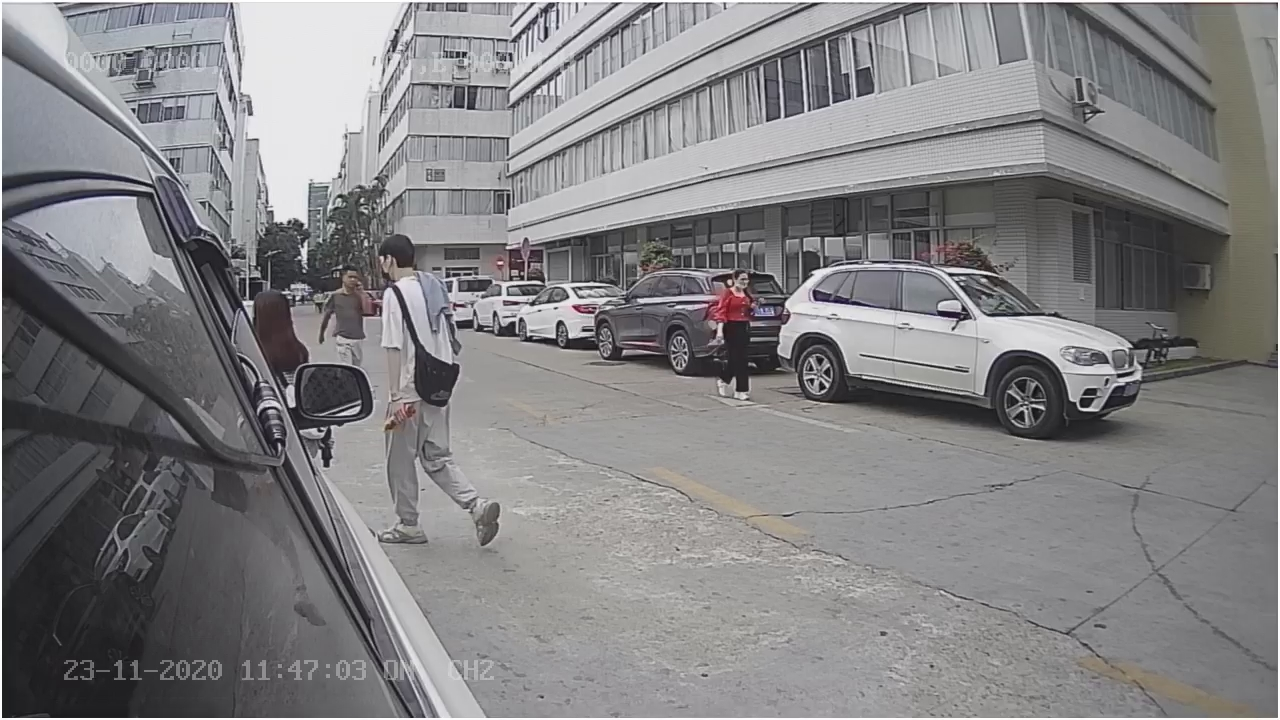person: (367, 223, 521, 545), (706, 263, 767, 404)
